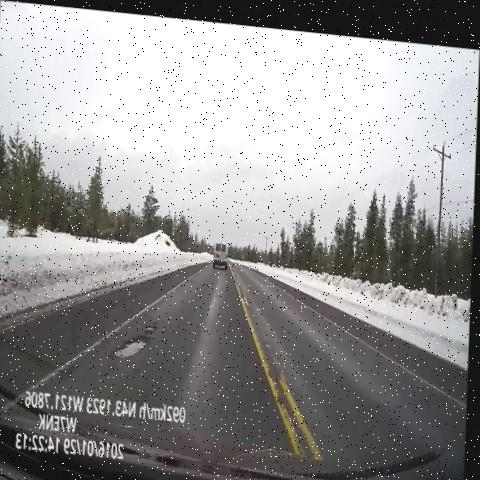pothole: (109, 328, 158, 371), (140, 303, 163, 337)
